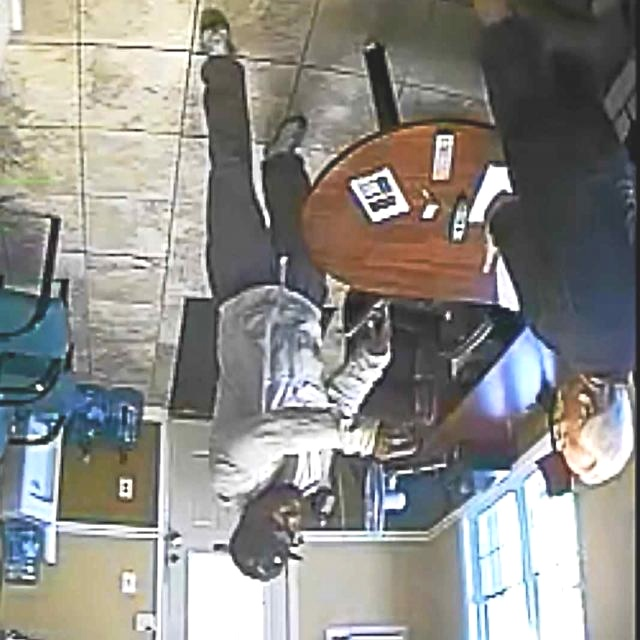gun: (374, 416, 452, 484)
